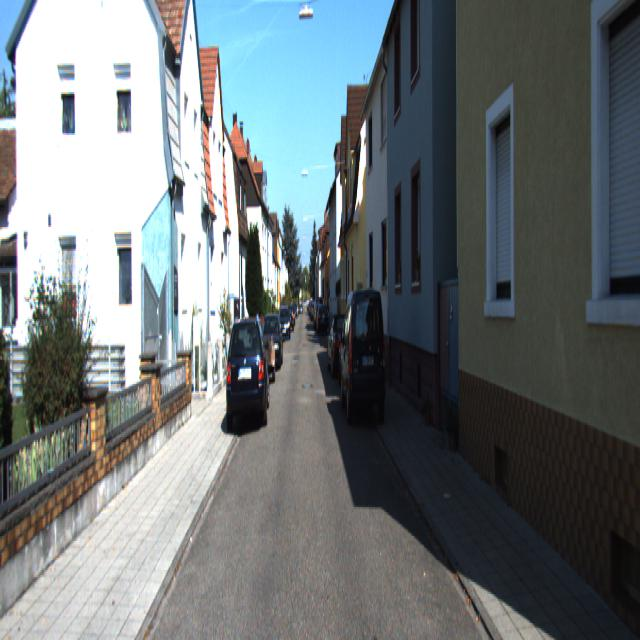Car: (338, 282, 386, 428), (225, 312, 269, 436), (326, 310, 356, 380), (262, 312, 284, 374), (254, 333, 276, 384)
